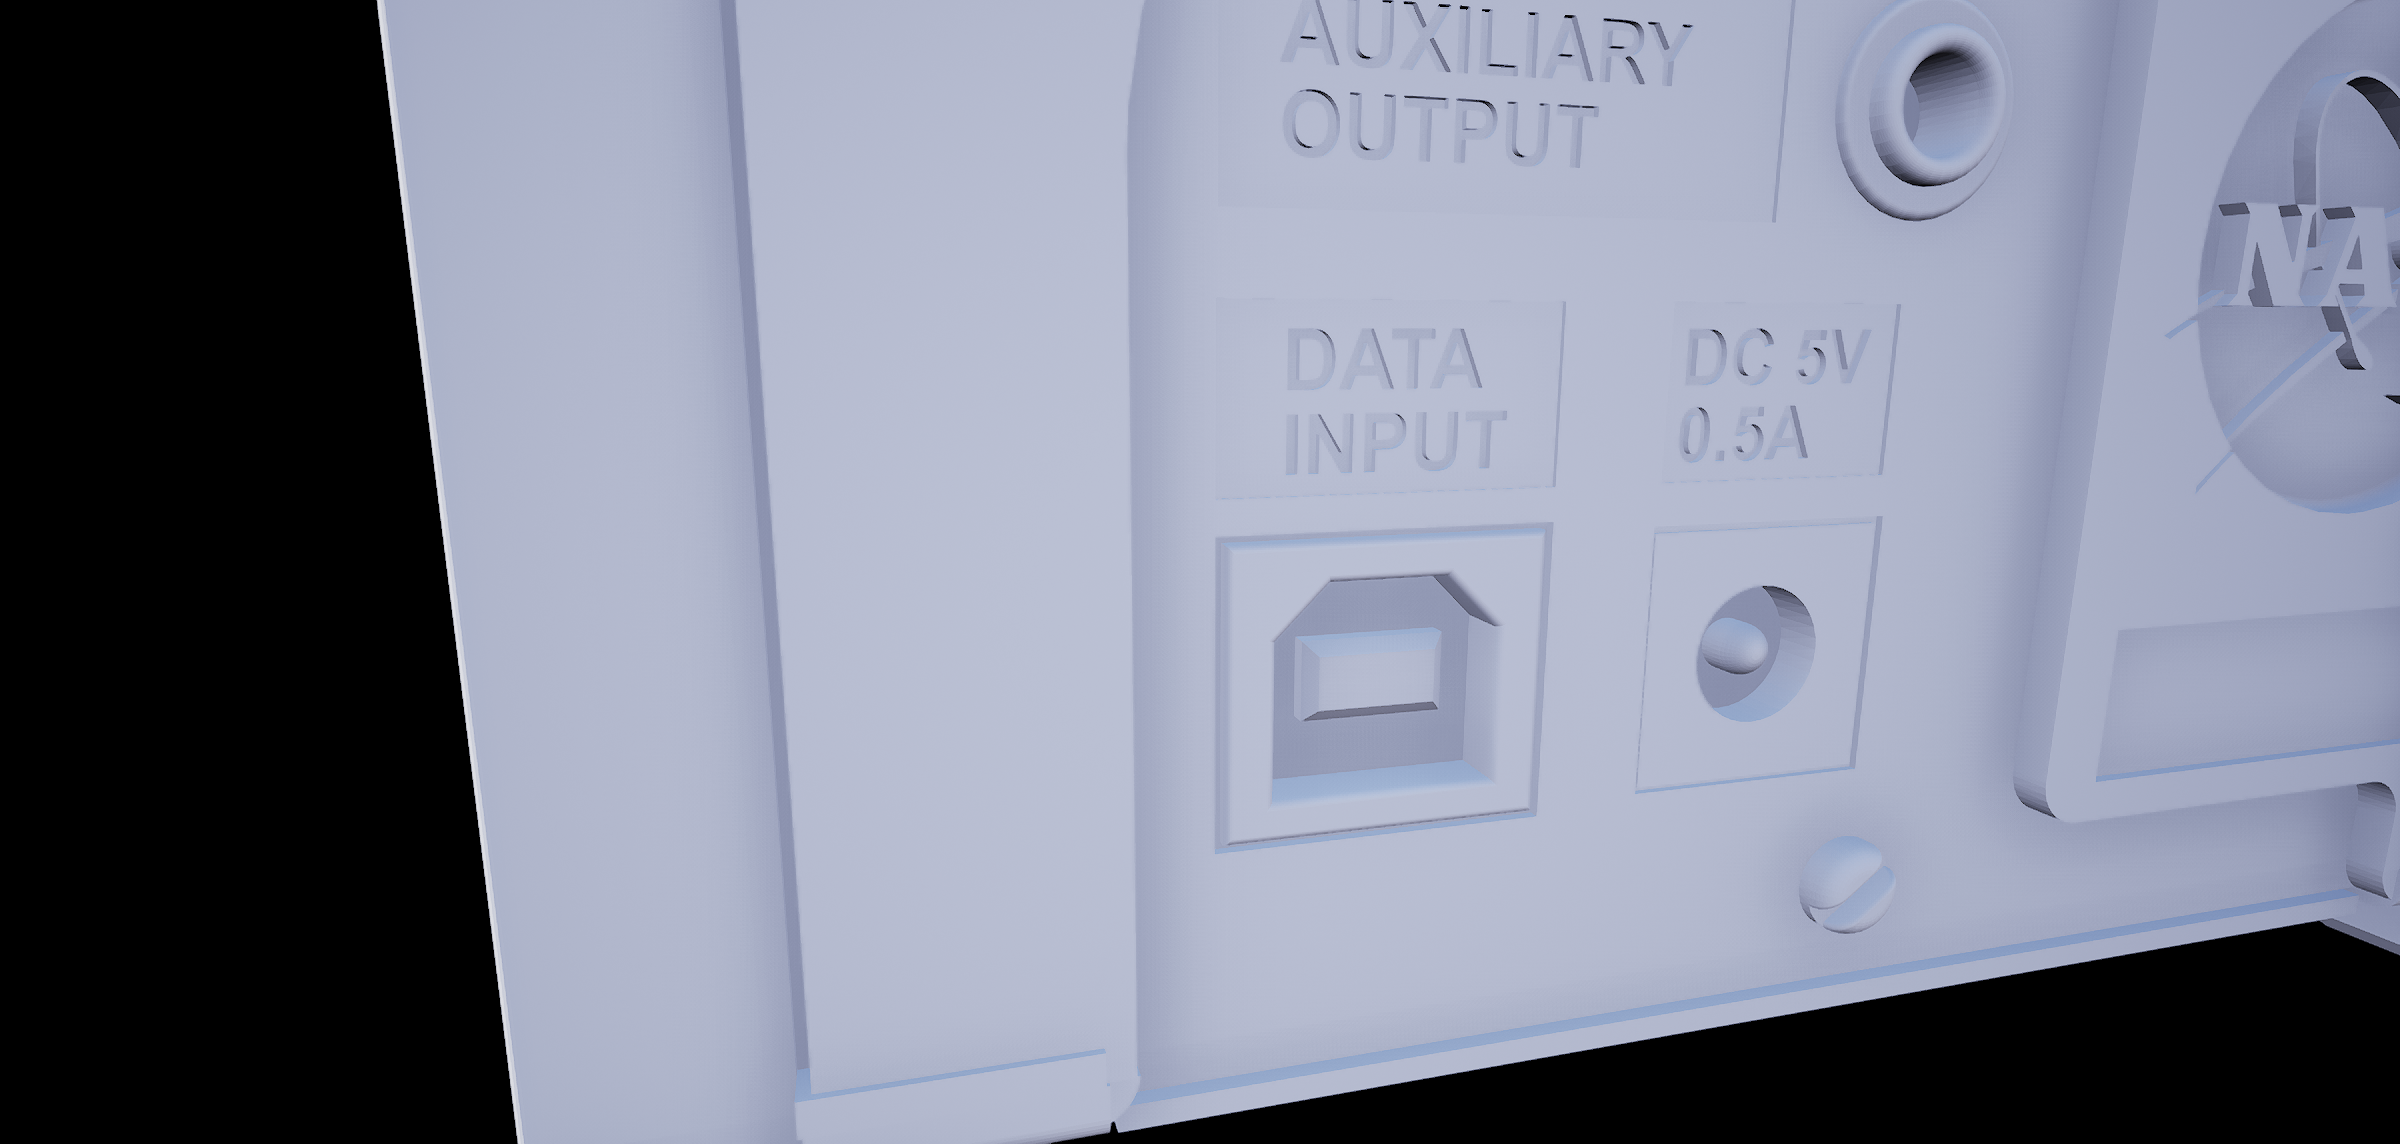aux: (1814, 8, 2017, 227)
dc: (1681, 579, 1829, 731)
usb: (1263, 567, 1508, 792)
